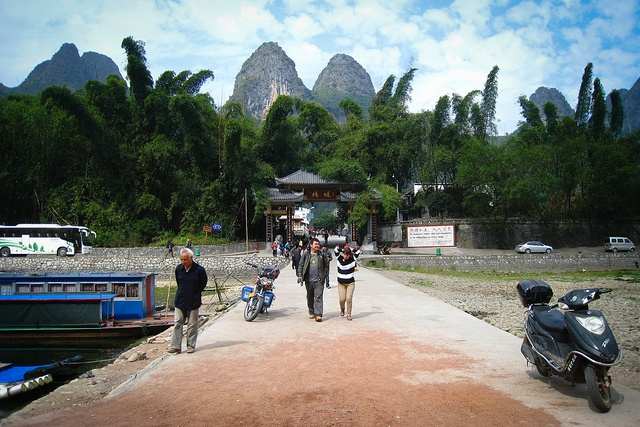non-vehicle: (514, 278, 622, 412), (242, 261, 280, 321), (375, 243, 391, 255)
